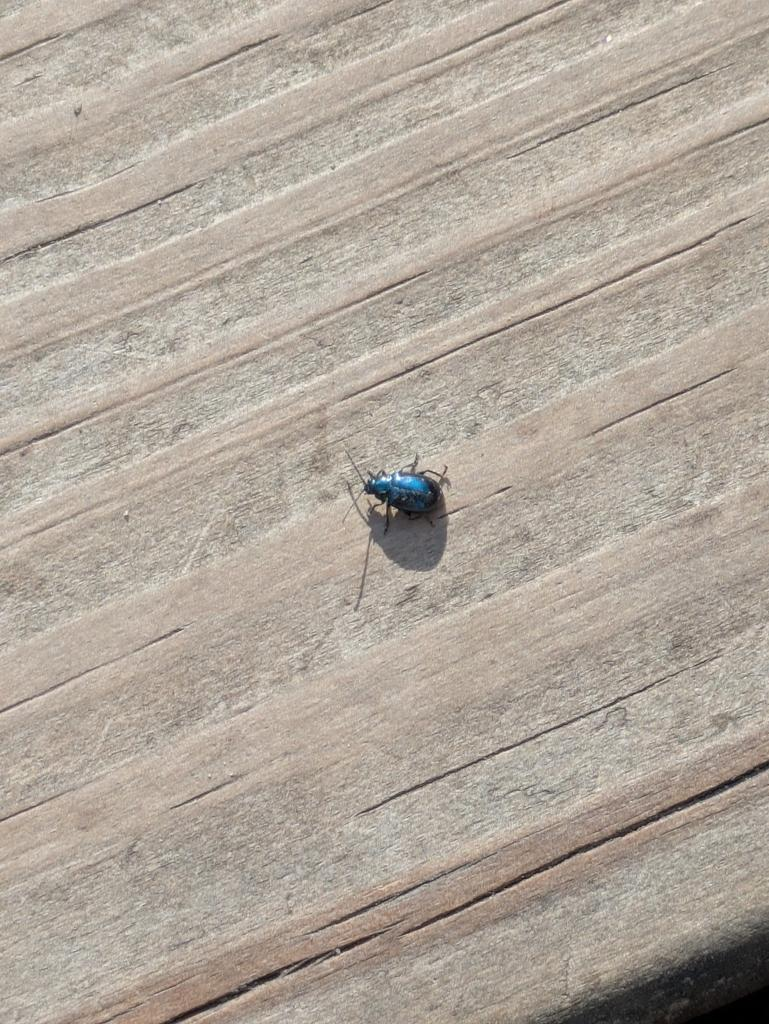flea_beetle: (303, 428, 473, 548)
